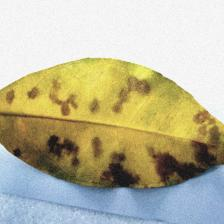black spot: (33, 94, 212, 185)
